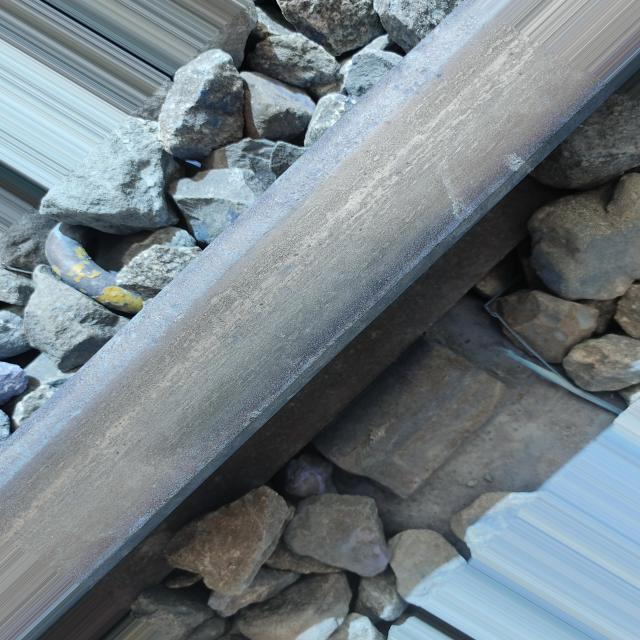Good Fasteners: (0, 211, 201, 313)
Missing Fastener: (284, 295, 614, 576)
